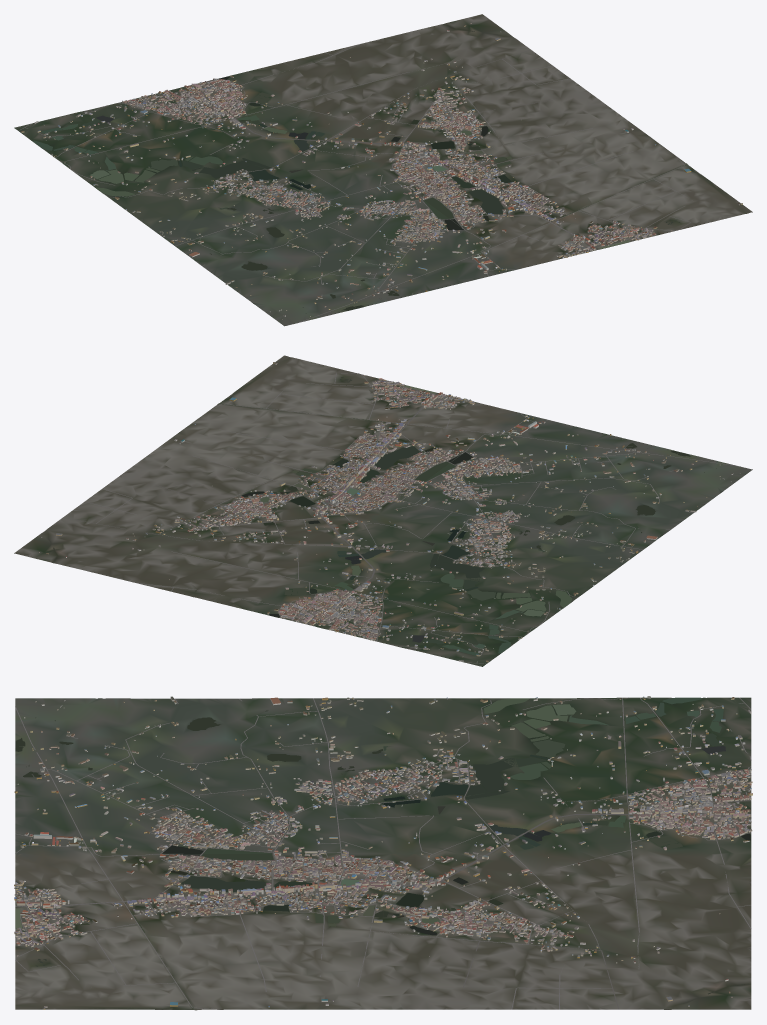
3 views of the same model, one above another, from view 1: azimuth 30°, elevation 25°; view 2: azimuth 150°, elevation 25°; view 3: azimuth 270°, elevation 25° (orthographic). The views are drawn at different scales.
Visible parts, largest first — view 1: ground, buildings, water, roads; view 2: ground, buildings, water, roads; view 3: ground, buildings, water, roads.
Part boxes in pixels (left/top/right/bottom): ground: left=14, top=14, right=752, bottom=326; buildings: left=21, top=23, right=742, bottom=319; water: left=31, top=24, right=741, bottom=313; roads: left=18, top=43, right=692, bottom=323; ground: left=14, top=355, right=752, bottom=666; buildings: left=39, top=362, right=740, bottom=662; water: left=53, top=358, right=721, bottom=655; roads: left=63, top=372, right=740, bottom=663; ground: left=15, top=697, right=751, bottom=1009; buildings: left=14, top=696, right=752, bottom=1009; water: left=15, top=697, right=750, bottom=1010; roads: left=15, top=697, right=751, bottom=1009.
Size of the model in its own units: 2813 by 24.06 by 2816.
